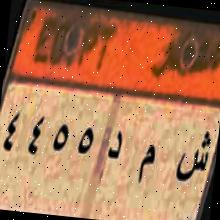4: (26, 112, 46, 160)
5: (73, 117, 98, 164), (48, 114, 72, 160)
daal: (104, 124, 124, 172)
meem: (135, 138, 157, 192)
sheen: (172, 120, 212, 192)
